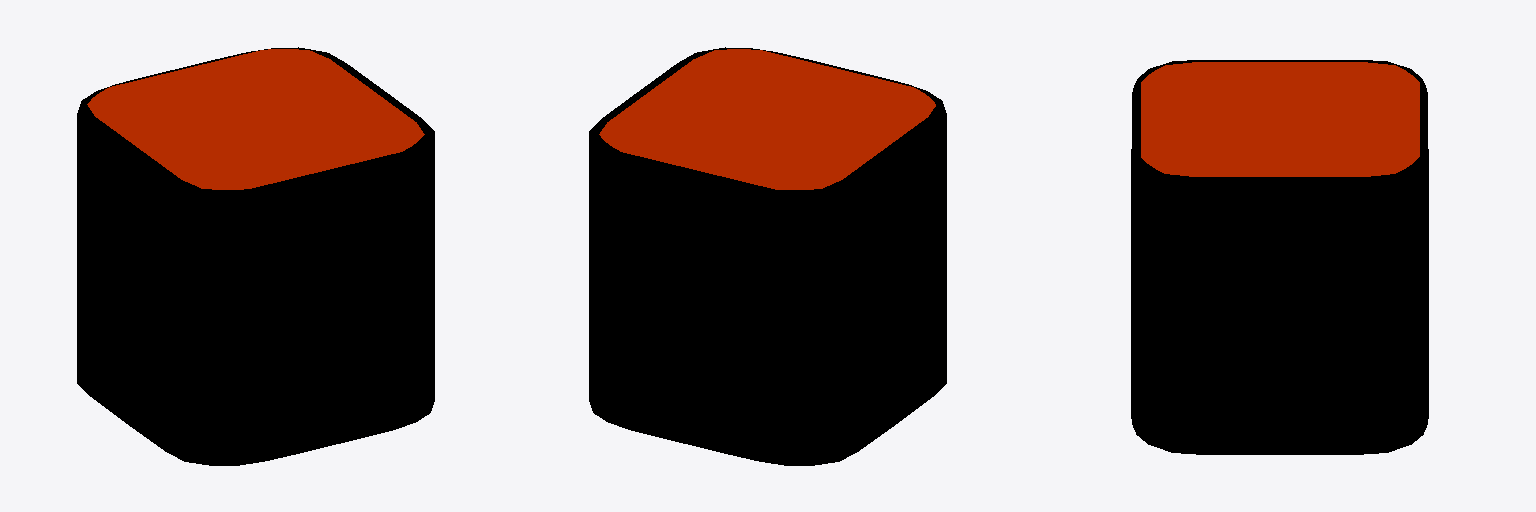
The model's file is centerO.obj.
3 views of the same model, side by side, from view 1: azimuth 30°, elevation 25°; view 2: azimuth 150°, elevation 25°; view 3: azimuth 270°, elevation 25° (orthographic).
Parts seen in each view (by area): view 1: BasicCenter_Plane.007, CenterSide_Plane.010; view 2: BasicCenter_Plane.007, CenterSide_Plane.010; view 3: BasicCenter_Plane.007, CenterSide_Plane.010.
Part boxes in pixels (bbox=[...]): BasicCenter_Plane.007: bbox=[77, 47, 434, 465]; CenterSide_Plane.010: bbox=[87, 49, 424, 189]; BasicCenter_Plane.007: bbox=[589, 47, 946, 465]; CenterSide_Plane.010: bbox=[599, 49, 935, 189]; BasicCenter_Plane.007: bbox=[1131, 60, 1428, 454]; CenterSide_Plane.010: bbox=[1141, 62, 1419, 176].
Size of the model in its own units: 0.18 by 0.1815 by 0.18.